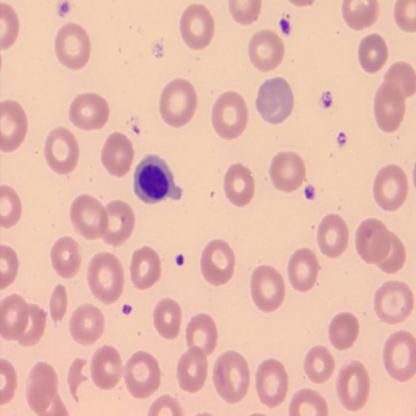NRC: (133, 150, 184, 207)
